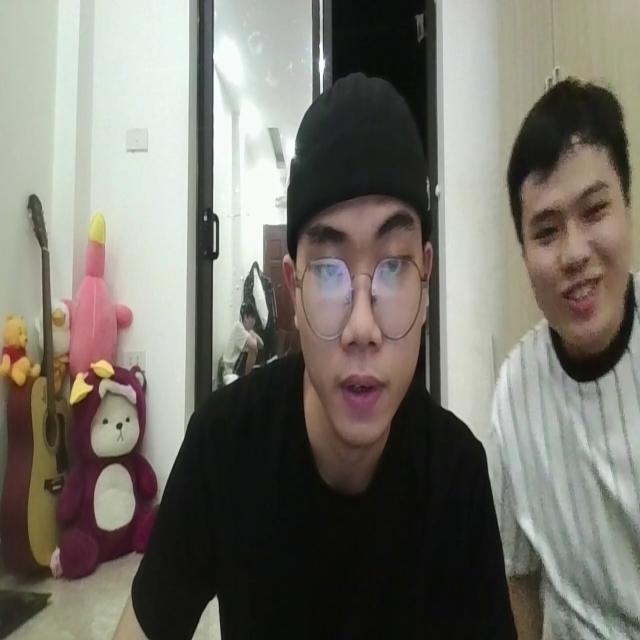extra_person: (501, 66, 640, 640)
student: (141, 81, 495, 640)
